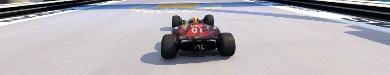Car: (160, 14, 235, 58)
obstacles-Borders: (0, 0, 113, 18)
